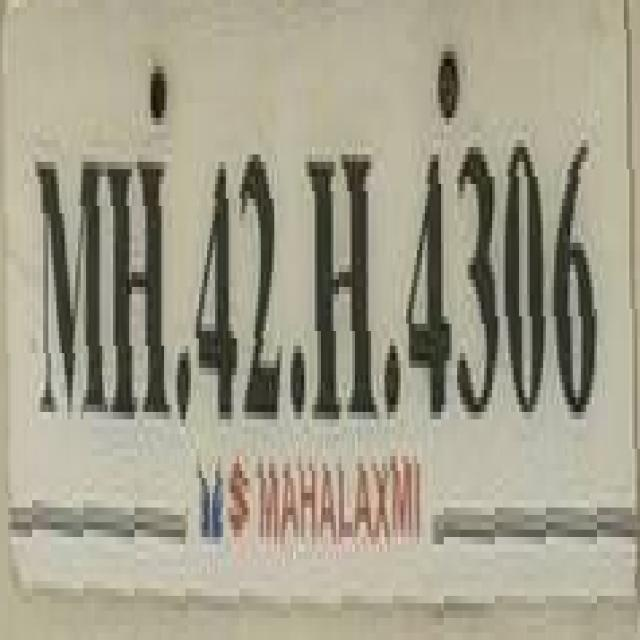license_plate: (11, 0, 640, 537)
